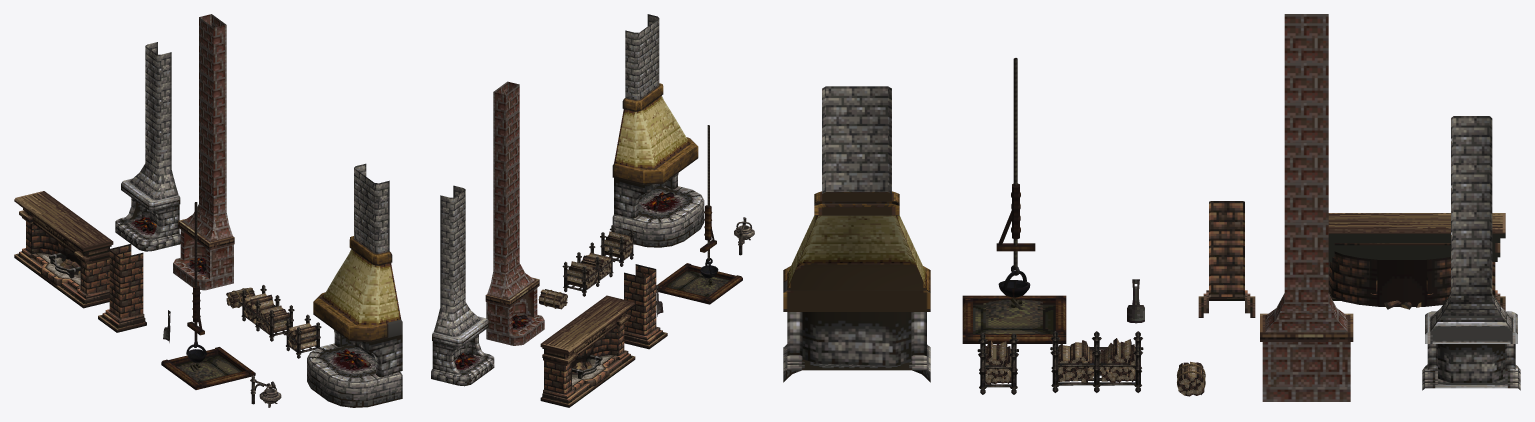
File: EnvObjMD_Fireplace_A.FBX
3 renders of one model, left to right at view 1: azimuth 30°, elevation 25°; view 2: azimuth 150°, elevation 25°; view 3: azimuth 270°, elevation 25°, orthographic. The views are drawn at different scales.
Parts seen in each view (by area): view 1: EnvObjMD_Fireplace_G, EnvObjMD_Fireplace_E, EnvObjMD_Fireplace_D, EnvObjMD_Fireplace_A, EnvObjMD_Fireplace_C_irori, EnvObjMD_Fireplace_A_Chimney, EnvObjMD_Fireplace_Firewood_A_Case_A_M, EnvObjMD_Fireplace_Firewood_A_Case_A_S, EnvObjMD_Fireplace_Pot_A, EnvObjMD_Fireplace_Firewood_A; view 2: EnvObjMD_Fireplace_G, EnvObjMD_Fireplace_E, EnvObjMD_Fireplace_D, EnvObjMD_Fireplace_A, EnvObjMD_Fireplace_C_irori, EnvObjMD_Fireplace_A_Chimney, EnvObjMD_Fireplace_Firewood_A_Case_A_M, EnvObjMD_Fireplace_Firewood_A_Case_A_S, EnvObjMD_Fireplace_Firewood_A, EnvObjMD_Fireplace_Pot_A; view 3: EnvObjMD_Fireplace_G, EnvObjMD_Fireplace_E, EnvObjMD_Fireplace_D, EnvObjMD_Fireplace_A, EnvObjMD_Fireplace_C_irori, EnvObjMD_Fireplace_Firewood_A_Case_A_M, EnvObjMD_Fireplace_A_Chimney, EnvObjMD_Fireplace_Firewood_A_Case_A_S, EnvObjMD_Fireplace_Firewood_A.
Boxes of the visible parts, bbox=[...] form: EnvObjMD_Fireplace_G: bbox=[307, 163, 402, 407]; EnvObjMD_Fireplace_E: bbox=[173, 14, 234, 290]; EnvObjMD_Fireplace_D: bbox=[115, 42, 180, 251]; EnvObjMD_Fireplace_A: bbox=[14, 191, 113, 308]; EnvObjMD_Fireplace_C_irori: bbox=[161, 202, 255, 389]; EnvObjMD_Fireplace_A_Chimney: bbox=[98, 244, 146, 332]; EnvObjMD_Fireplace_Firewood_A_Case_A_M: bbox=[238, 285, 294, 341]; EnvObjMD_Fireplace_Firewood_A_Case_A_S: bbox=[283, 314, 321, 358]; EnvObjMD_Fireplace_Pot_A: bbox=[250, 375, 281, 407]; EnvObjMD_Fireplace_Firewood_A: bbox=[226, 287, 255, 308]; EnvObjMD_Fireplace_G: bbox=[612, 14, 704, 247]; EnvObjMD_Fireplace_E: bbox=[485, 81, 544, 345]; EnvObjMD_Fireplace_D: bbox=[431, 185, 494, 386]; EnvObjMD_Fireplace_A: bbox=[540, 295, 635, 407]; EnvObjMD_Fireplace_C_irori: bbox=[656, 125, 742, 304]; EnvObjMD_Fireplace_A_Chimney: bbox=[624, 264, 667, 349]; EnvObjMD_Fireplace_Firewood_A_Case_A_M: bbox=[562, 242, 615, 296]; EnvObjMD_Fireplace_Firewood_A_Case_A_S: bbox=[600, 225, 636, 266]; EnvObjMD_Fireplace_Firewood_A: bbox=[538, 289, 567, 309]; EnvObjMD_Fireplace_Pot_A: bbox=[734, 217, 754, 255]; EnvObjMD_Fireplace_G: bbox=[783, 86, 930, 382]; EnvObjMD_Fireplace_E: bbox=[1260, 14, 1353, 401]; EnvObjMD_Fireplace_D: bbox=[1422, 116, 1520, 390]; EnvObjMD_Fireplace_A: bbox=[1328, 213, 1505, 310]; EnvObjMD_Fireplace_C_irori: bbox=[962, 58, 1066, 343]; EnvObjMD_Fireplace_Firewood_A_Case_A_M: bbox=[1050, 331, 1143, 392]; EnvObjMD_Fireplace_A_Chimney: bbox=[1198, 201, 1255, 317]; EnvObjMD_Fireplace_Firewood_A_Case_A_S: bbox=[977, 333, 1018, 394]; EnvObjMD_Fireplace_Firewood_A: bbox=[1177, 361, 1205, 396].
Size of the model in its own units: 495 by 808 by 1425.
7 materials, 7 textured.
